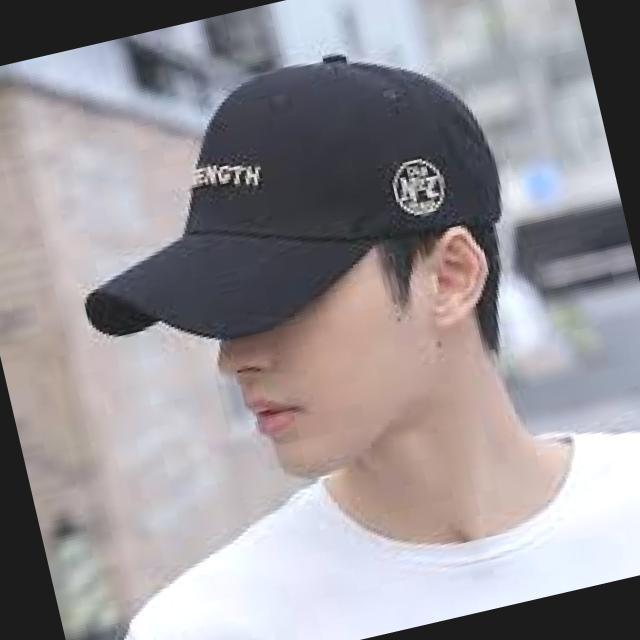cap: (6, 0, 561, 404)
